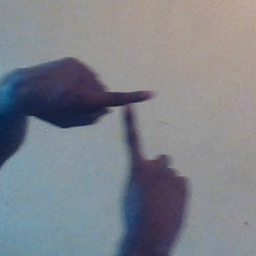T: (74, 66, 182, 180)
